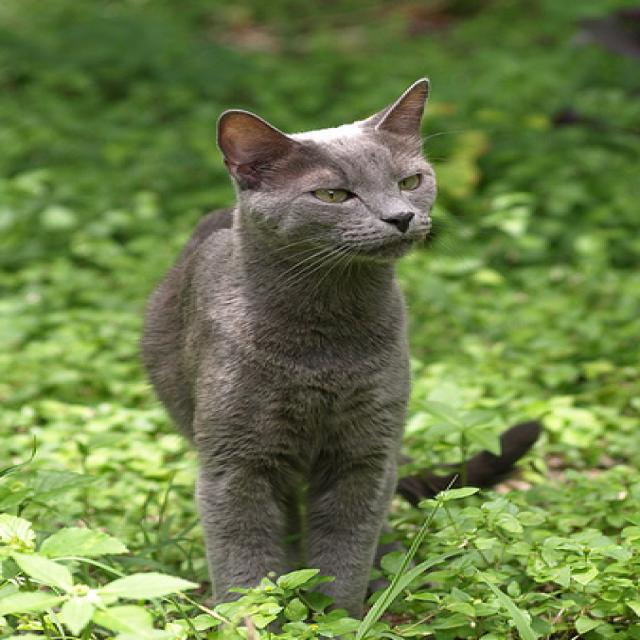Russian Blue: (135, 75, 547, 634)
